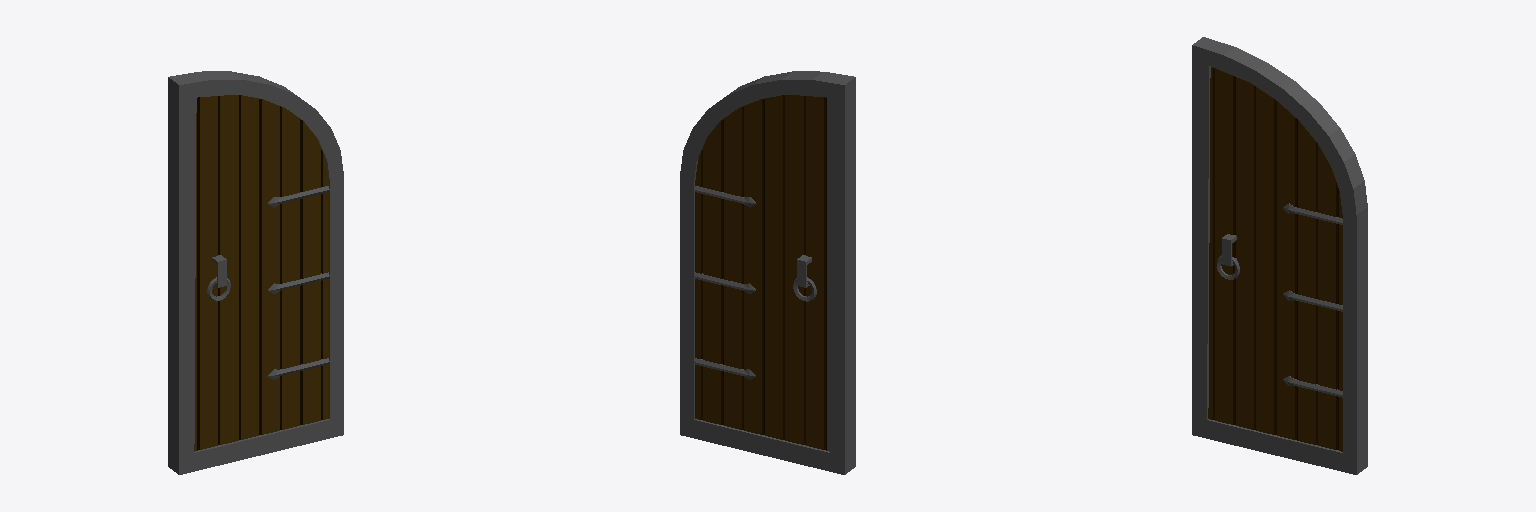
3 renders of one model, left to right at view 1: azimuth 30°, elevation 25°; view 2: azimuth 150°, elevation 25°; view 3: azimuth 330°, elevation 25°, orthographic.
Visible parts, largest first — view 1: 扉大元_立方体.001; view 2: 扉大元_立方体.001; view 3: 扉大元_立方体.001.
Part boxes in pixels (left/top/right/bottom): 扉大元_立方体.001: left=168, top=71, right=343, bottom=474; 扉大元_立方体.001: left=680, top=71, right=855, bottom=474; 扉大元_立方体.001: left=1192, top=37, right=1367, bottom=474.
Size of the model in its own units: 1.32 by 3 by 0.2798.
1 materials, 1 textured.